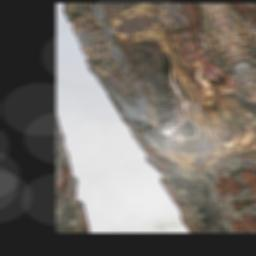Woodpecker: (124, 48, 215, 147)
